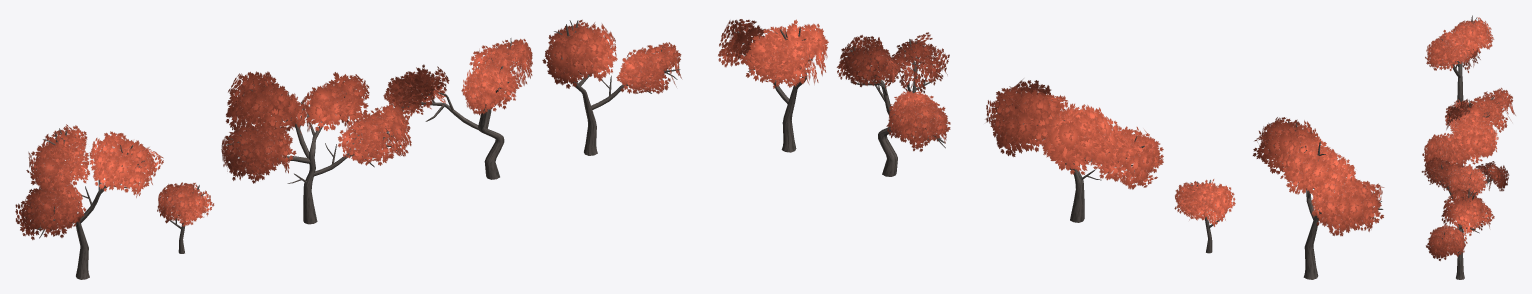
File: tree_pack_maple.glb
The picture shows the model from 3 angles, left to right: view 1: azimuth 30°, elevation 25°; view 2: azimuth 150°, elevation 25°; view 3: azimuth 270°, elevation 25°; orthographic projection. The views are drawn at different scales.
Visible parts, largest first — view 1: MapleTree_3, MapleTree_5, MapleTree_2, MapleTree_1, MapleTree_4; view 2: MapleTree_3, MapleTree_5, MapleTree_2, MapleTree_1, MapleTree_4; view 3: MapleTree_3, MapleTree_1, MapleTree_5, MapleTree_2, MapleTree_4.
Part boxes in pixels (<box>): MapleTree_3: <box>221,71,411,224</box>; MapleTree_5: <box>15,124,163,279</box>; MapleTree_2: <box>383,38,532,179</box>; MapleTree_1: <box>542,19,681,155</box>; MapleTree_4: <box>157,182,214,253</box>; MapleTree_3: <box>985,79,1163,222</box>; MapleTree_5: <box>1253,117,1384,279</box>; MapleTree_2: <box>837,32,950,176</box>; MapleTree_1: <box>718,19,828,152</box>; MapleTree_4: <box>1174,179,1235,253</box>; MapleTree_3: <box>1422,87,1515,175</box>; MapleTree_1: <box>1426,188,1494,279</box>; MapleTree_5: <box>1425,15,1494,105</box>; MapleTree_2: <box>1421,157,1509,246</box>; MapleTree_4: <box>1445,99,1469,131</box>.
Bounding box in the file's own units: 34.21 × 7.29 × 6.68.
Materials: 2 (2 with a texture image).
